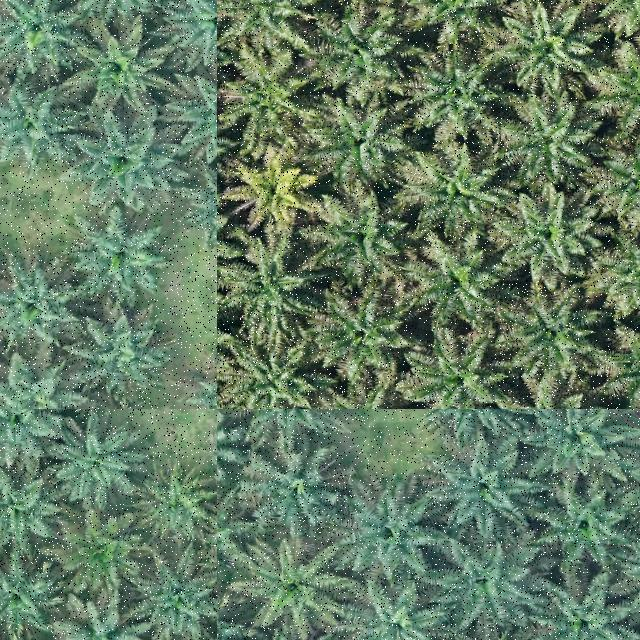Ganoderma: (246, 164, 300, 218)
